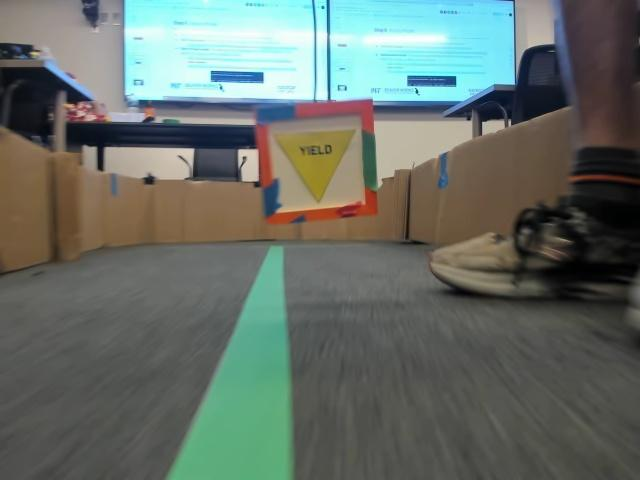Yield: (271, 133, 354, 206)
